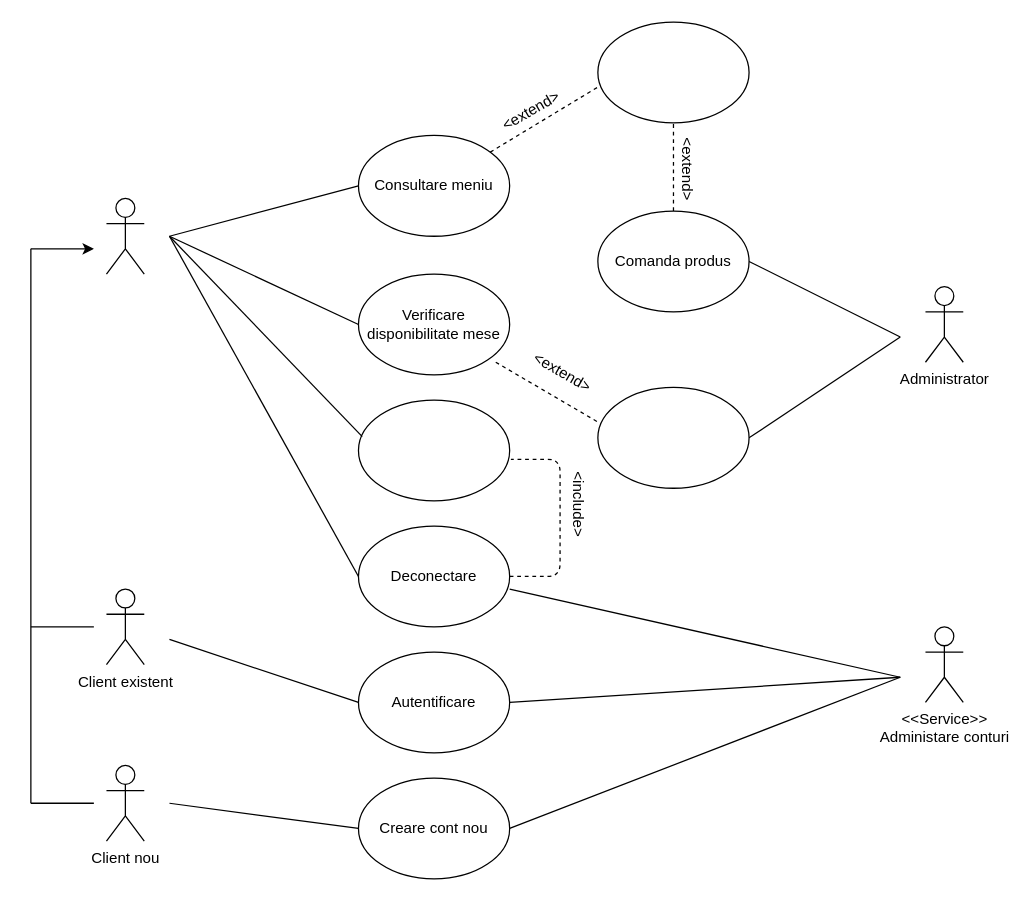
The diagram is 1031 pixels wide and 901 high, and some of its shapes have lost their labels. Each missing label, with the centre of its shape:
"Client" belongs at point 124,235.
"Rezerva masa" belongs at point 673,437.
"Vizualizare nota" belongs at point 433,450.
"Vizualizare produs" belongs at point 673,72.
